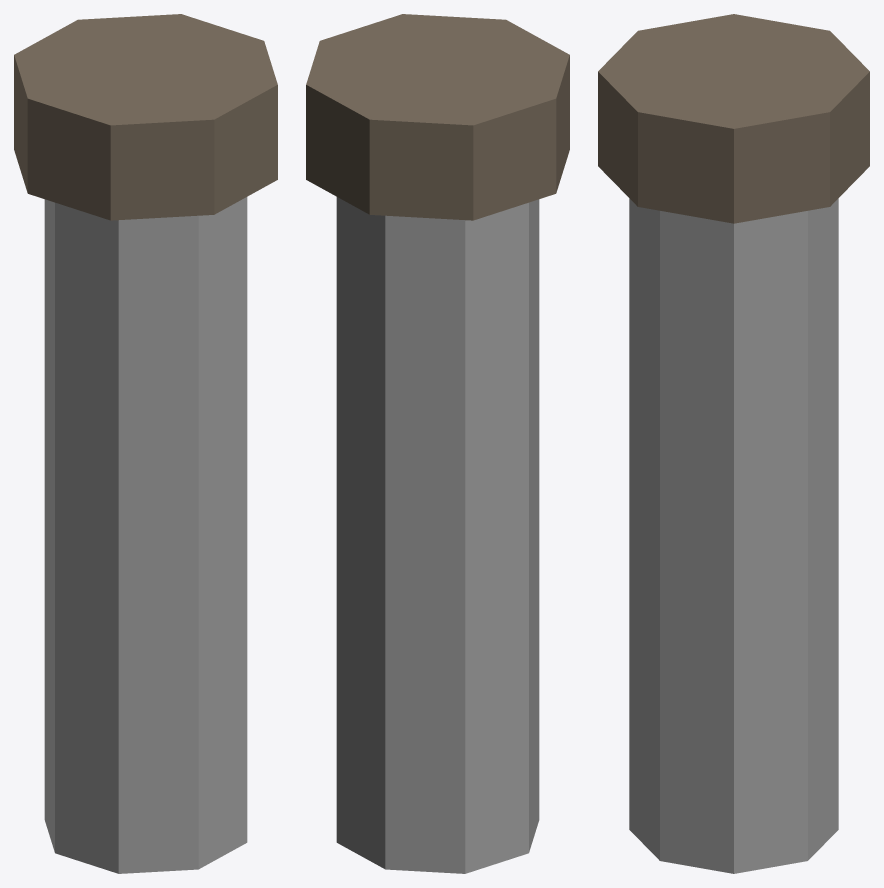
The model's file is steampunk_pipe_thick_2.fbx.
3 renders of one model, left to right at view 1: azimuth 30°, elevation 25°; view 2: azimuth 150°, elevation 25°; view 3: azimuth 270°, elevation 25°, orthographic.
Visible parts, largest first — view 1: Cylinder.020; view 2: Cylinder.020; view 3: Cylinder.020.
Part boxes in pixels (x1,y1,x2,y2): Cylinder.020: [14, 14, 277, 873]; Cylinder.020: [306, 14, 569, 873]; Cylinder.020: [598, 14, 869, 873].
Bounding box in the file's own units: 0.65 × 2 × 0.65.
